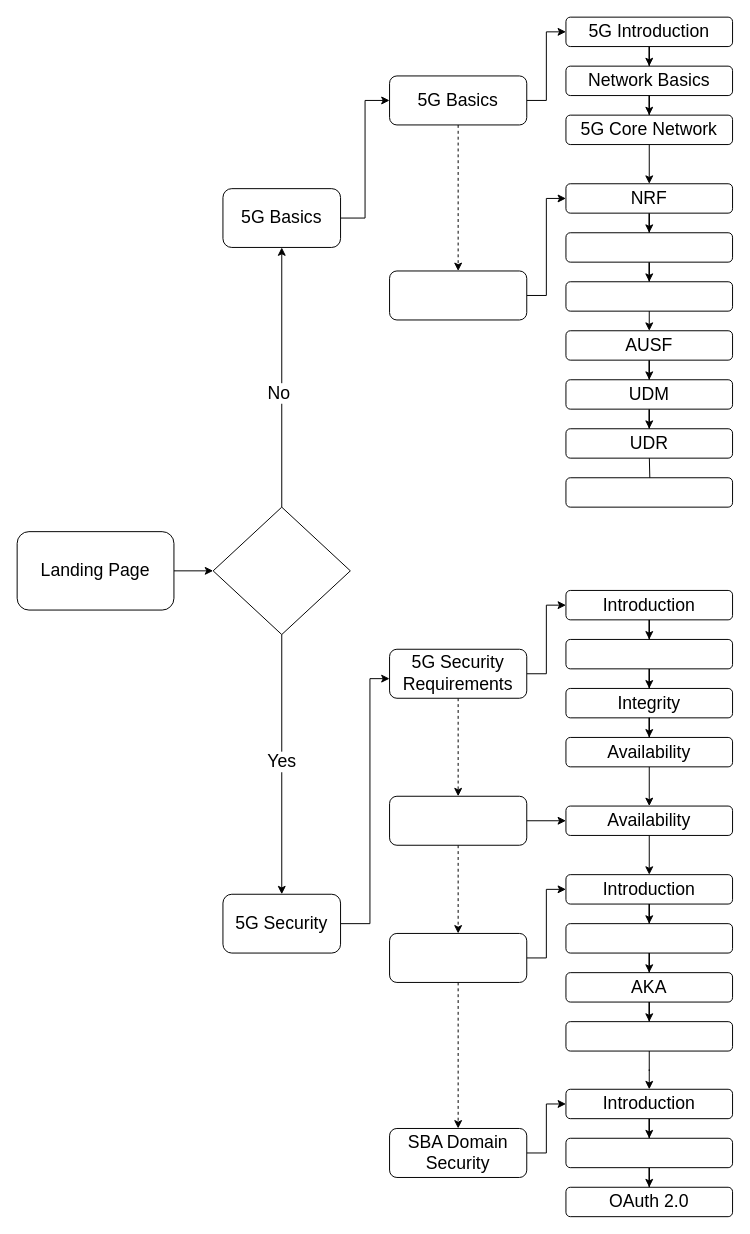
Some shapes in this 750 by 1234 pixel diagram are drawn without their labels. The shapes that lost their labels are listed below. From the top down, each one's centre as x and y in pixels, then its label:
At [649,247]: "AMF".
At [458,295]: "Network Functions".
At [649,296]: "SMF".
At [649,492]: "UPF".
At [281,570]: "Knowledge about 5G?".
At [649,653]: "Confidentiality".
At [458,820]: "Security Architecture".
At [458,957]: "Network Access Security".
At [649,938]: "Identification".
At [649,1036]: "Security Activation".
At [649,1152]: "TLS".
